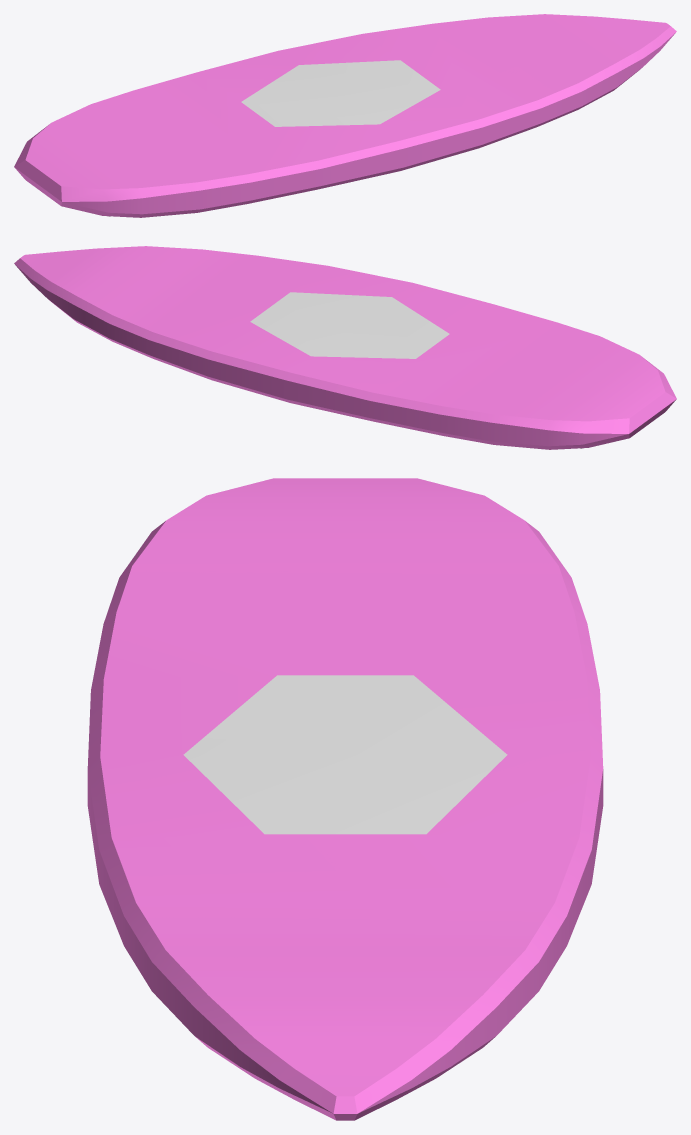
File: sörf tahtası pembe.fbx
The picture shows the model from 3 angles, top to bottom: view 1: azimuth 30°, elevation 25°; view 2: azimuth 150°, elevation 25°; view 3: azimuth 270°, elevation 25°; orthographic projection. The views are drawn at different scales.
Parts seen in each view (by area): view 1: pCube1; view 2: pCube1; view 3: pCube1.
Boxes of the visible parts, x1,y1,x2,y2 form: pCube1: (14,14,676,217); pCube1: (14,246,676,449); pCube1: (87,478,603,1120).
Bounding box in the file's own units: 294 × 29.19 × 103.
